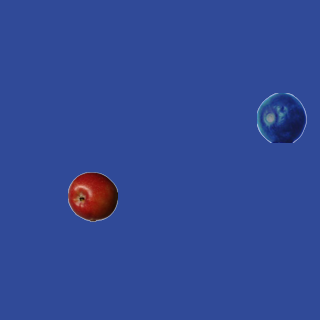Apple Braeburn: (67, 171, 117, 221)
Huckleberry: (256, 92, 306, 142)
